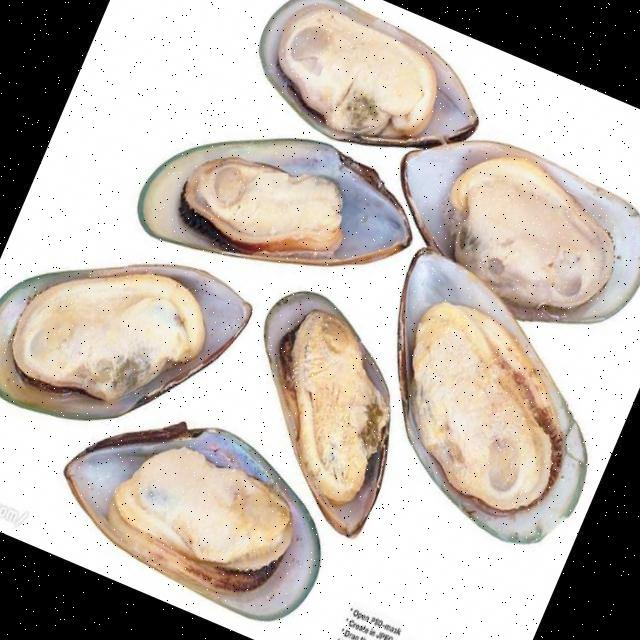Oyster-Open: (397, 248, 589, 544), (61, 420, 321, 622), (398, 141, 640, 323), (1, 262, 253, 420), (139, 138, 413, 268), (260, 0, 478, 148), (263, 290, 392, 540)
